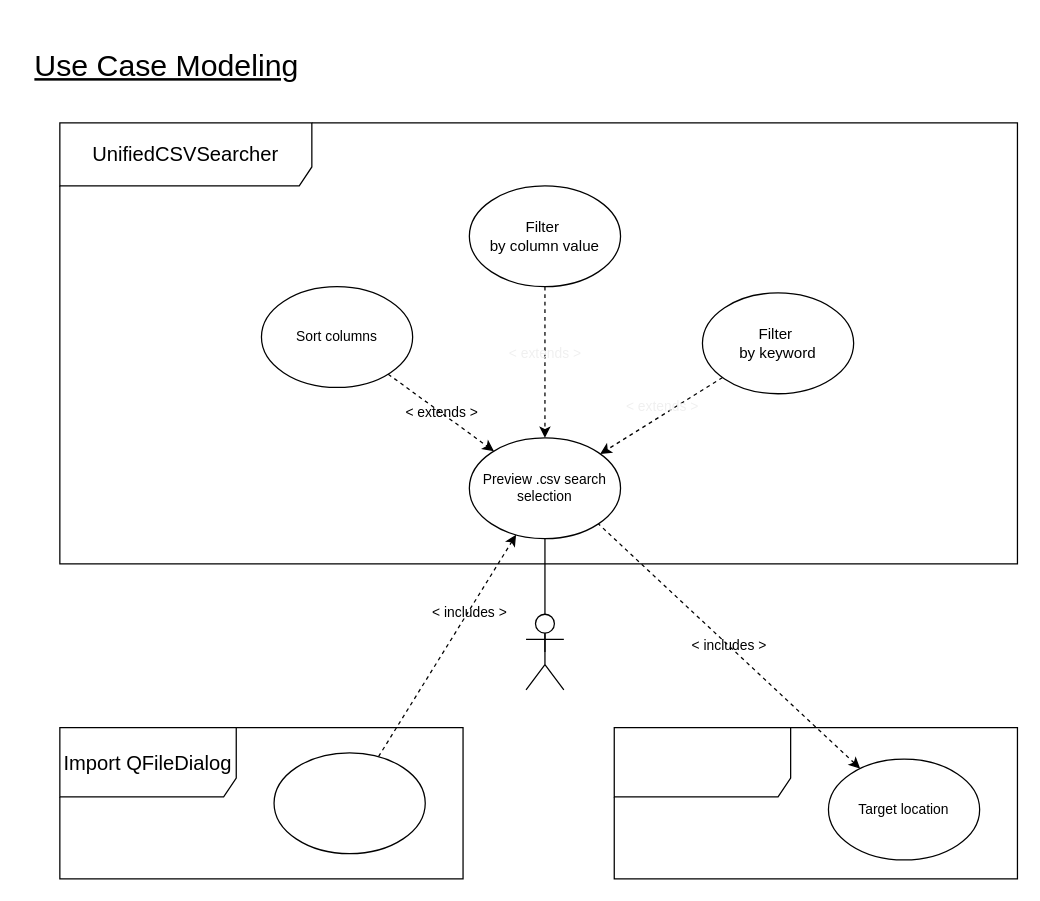
This 1040x901 diagram has some shape labels left out. The shapes that lost their labels are listed below. From the top down, each one's centre as x and y in pixels, then its label:
the point at 544,651: User
the point at 349,803: Target .csv file
the point at 815,802: Export QFileDialog
